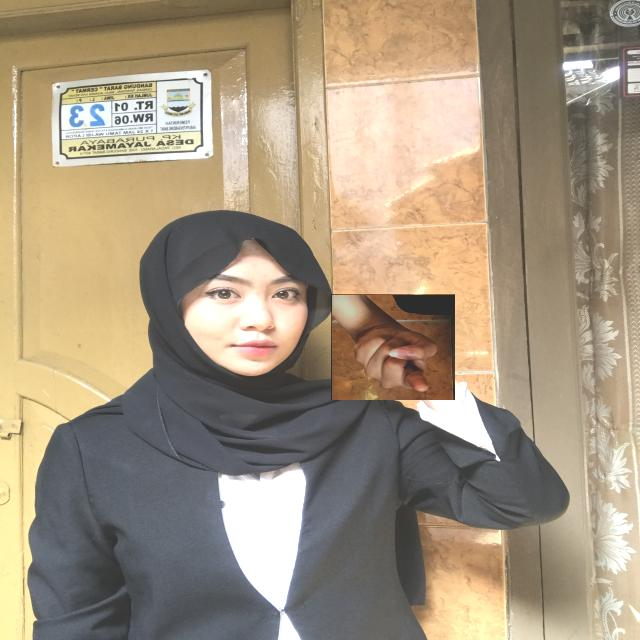kamu: (331, 294, 455, 400)
